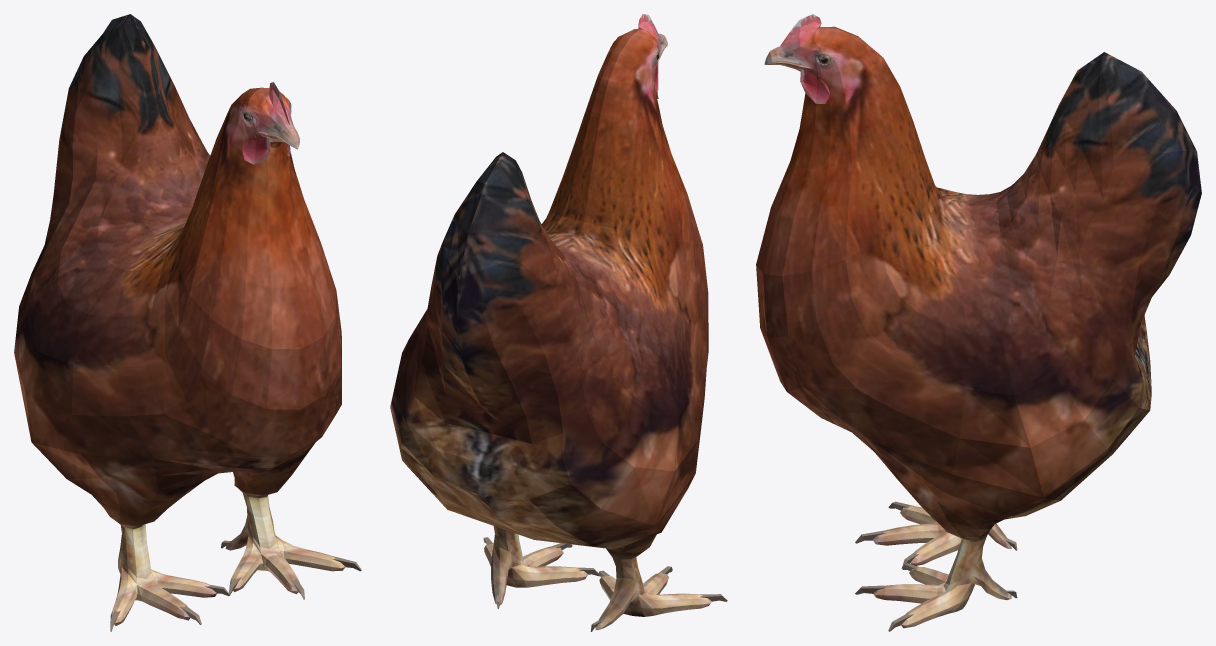
Rendered from dchicken01.glb.
The picture shows the model from 3 angles, left to right: view 1: azimuth 30°, elevation 25°; view 2: azimuth 150°, elevation 25°; view 3: azimuth 270°, elevation 25°; orthographic projection. The views are drawn at different scales.
Visible parts, largest first — view 1: NQYSRFAH2DLRRCXYATRL10XFG; view 2: NQYSRFAH2DLRRCXYATRL10XFG; view 3: NQYSRFAH2DLRRCXYATRL10XFG.
Boxes of the visible parts, x1,y1,x2,y2 form: NQYSRFAH2DLRRCXYATRL10XFG: (14,14,361,631); NQYSRFAH2DLRRCXYATRL10XFG: (390,14,727,631); NQYSRFAH2DLRRCXYATRL10XFG: (756,14,1201,631).
Bounding box in the file's own units: 0.7379 × 1.39 × 0.9993.
Materials: 3 (3 with a texture image).
